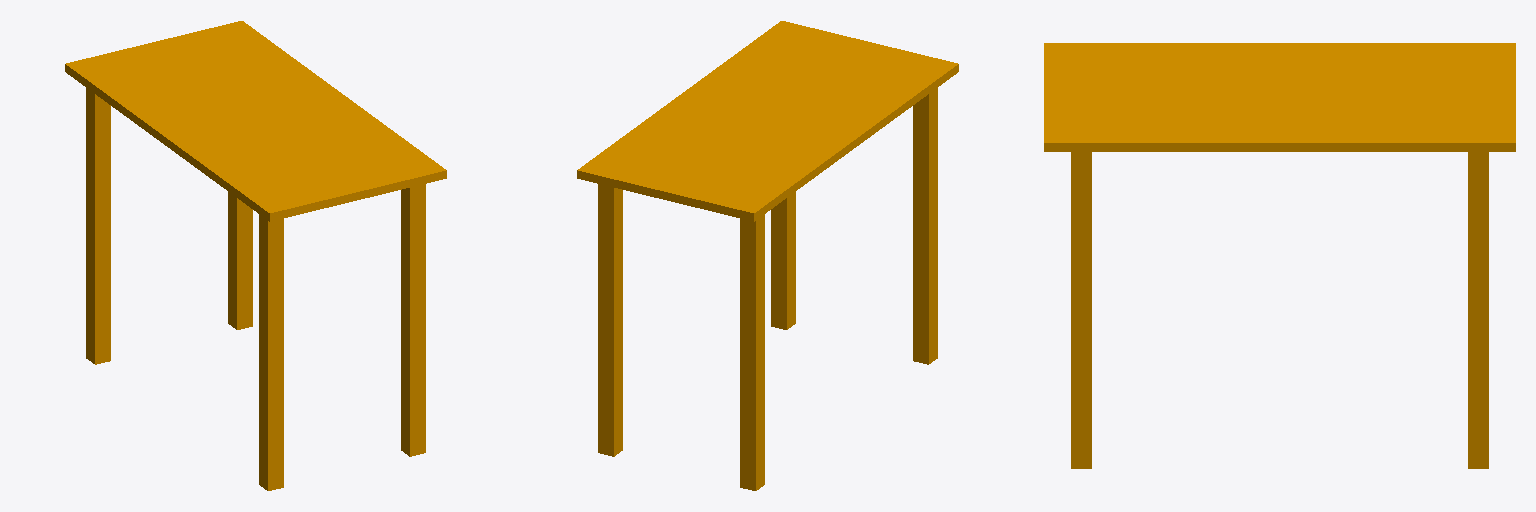
URDF robot description (table):
<?xml version="1.0" ?>
<robot name="table" xmlns:xacro="http://www.ros.org/wiki/xacro">
  <link name="table">
    <inertial>
      <mass value=".25"/>
      <origin rpy="0 0 0" xyz="0 0 0"/>
      <inertia ixx="1e-4" ixy="0" ixz="0" iyy="1e-4" iyz="0" izz="1e-4"/>
    </inertial>
    <visual>
      <origin rpy="1.570796325 0 1.570796325" xyz="0 0 0"/>
      <geometry>
        <mesh filename="meshes/table.obj"/>
      </geometry>
    </visual>
    <collision>
      <origin rpy="0 0 1.570796325" xyz="0 0 0"/>
      <geometry>
        <mesh filename="meshes/table.stl"/>
      </geometry>
    </collision>
  </link>
</robot>

--- Facts derived from the render (not from the file) ---
3 views of the same robot in one strip: view 1: azimuth 30°, elevation 25°; view 2: azimuth 150°, elevation 25°; view 3: azimuth 270°, elevation 25° (orthographic).
Model table with 1 links and 0 joints (none), rooted at table, posed all joints at 0.
Visible links, largest first — view 1: table; view 2: table; view 3: table.
Link boxes in pixels (x1,y1,x2,y2): table: [65, 21, 446, 490]; table: [577, 21, 958, 490]; table: [1044, 43, 1515, 468].
Bounding box of the posed robot: 0.45 × 0.9 × 0.7 m (x, y, z).
1 mesh visuals loaded from 1 distinct referenced files (1 OBJ).
